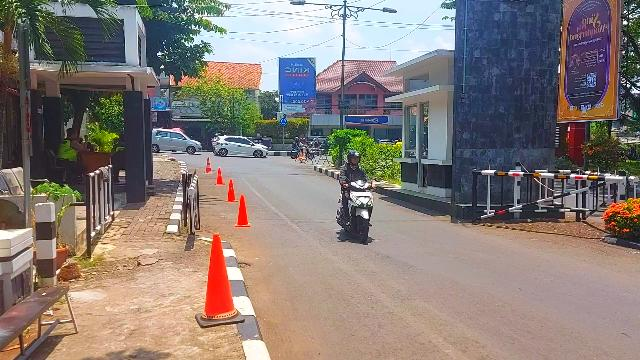helm: (347, 150, 364, 166)
motor: (336, 177, 384, 245)
